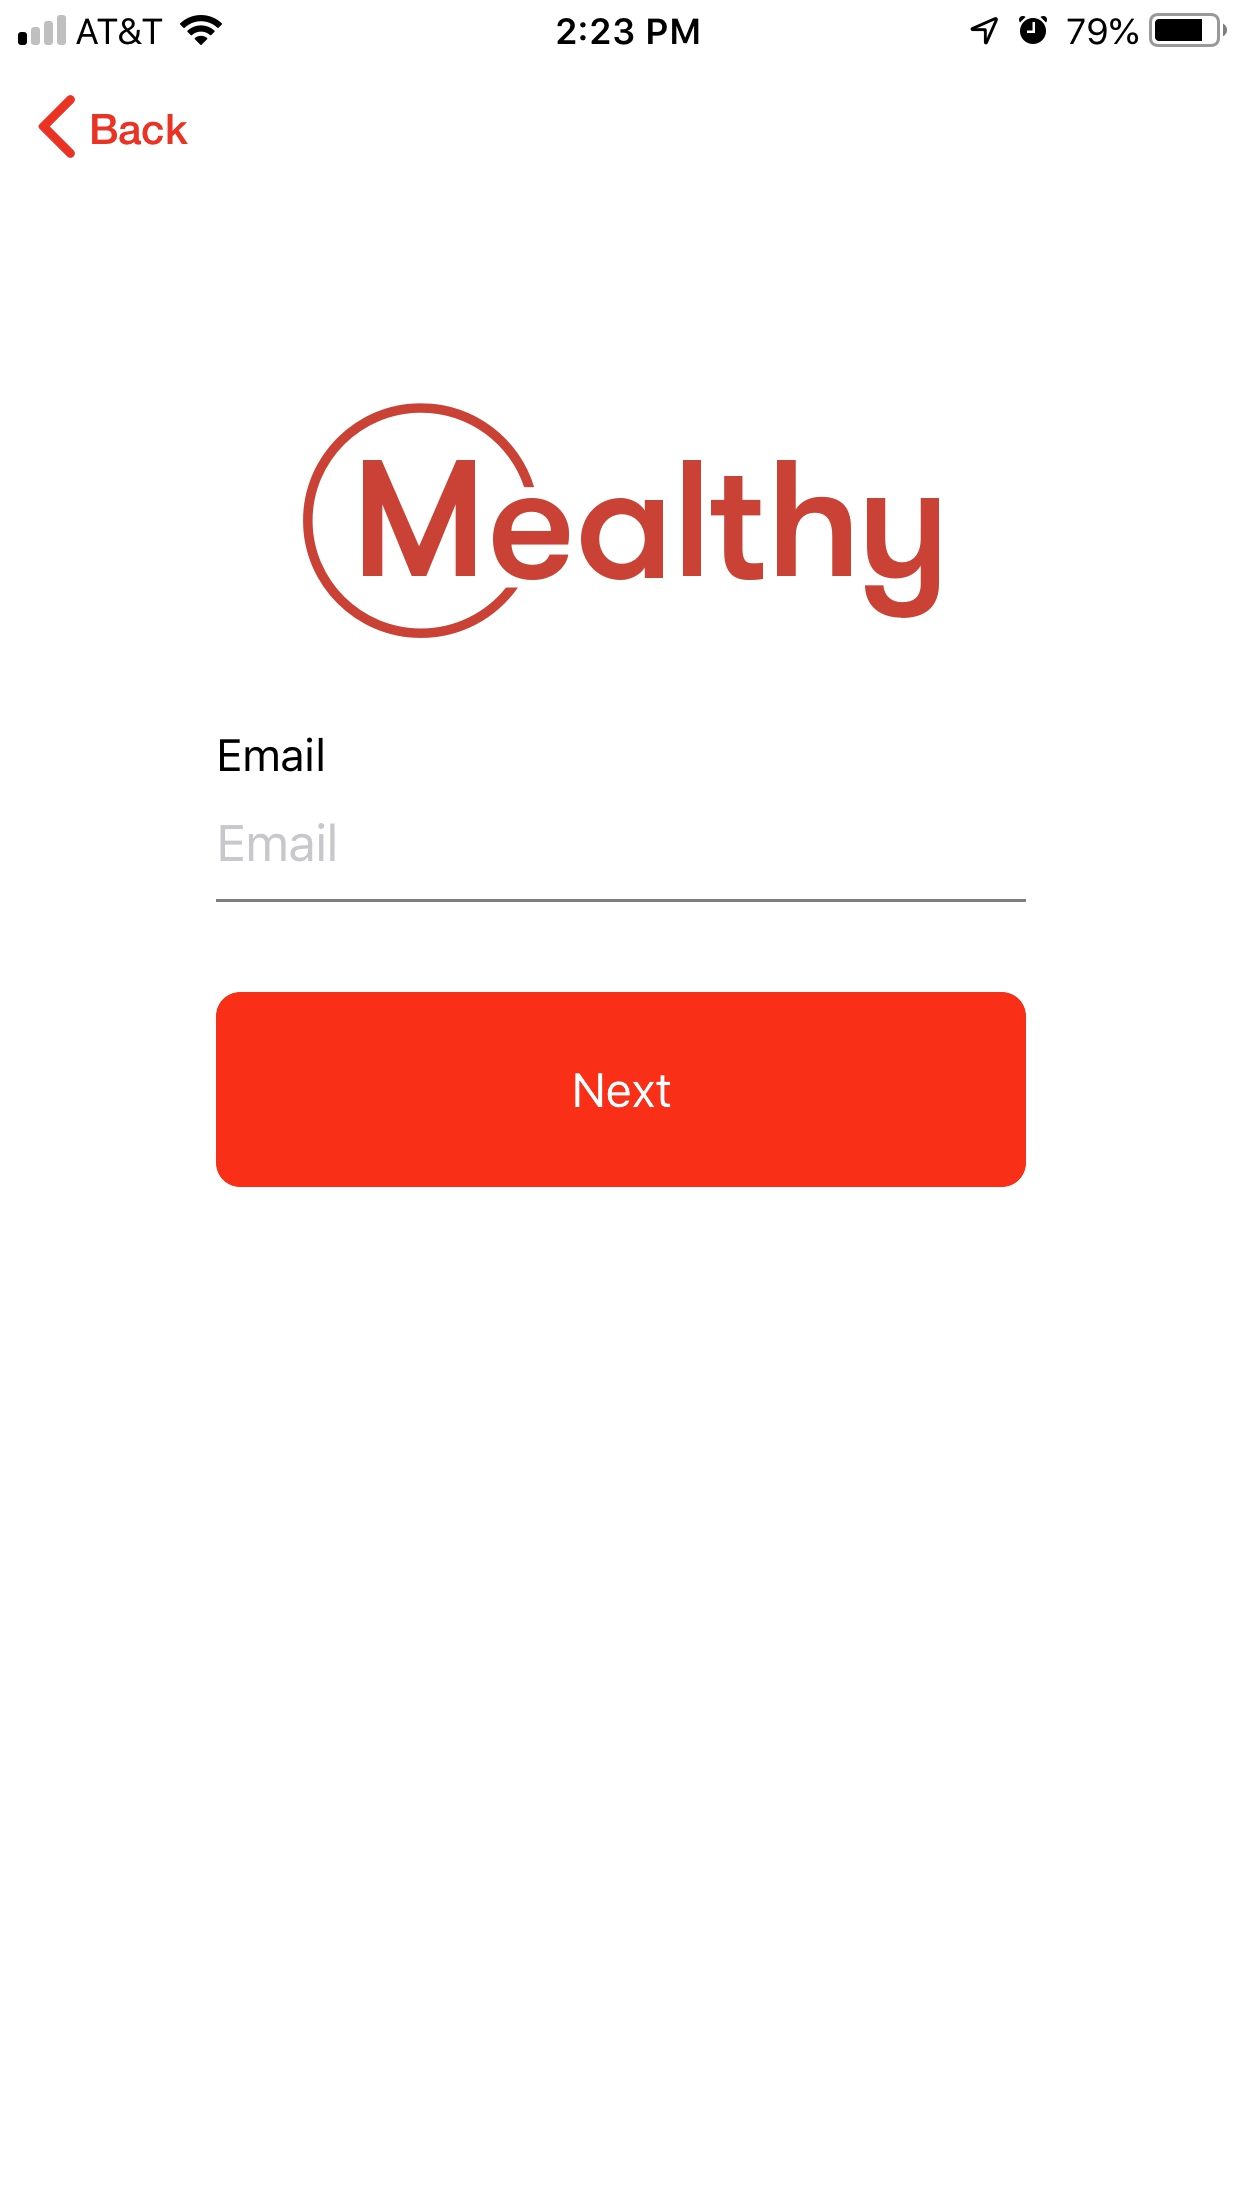EditText: (215, 822, 1027, 904)
Icon: (39, 96, 77, 161)
Image: (303, 403, 940, 638)
Text: (220, 822, 337, 863), (221, 737, 325, 773), (93, 114, 190, 147)
TextButton: (215, 992, 1027, 1187)
UpperTaskBar: (2, 2, 1242, 49)
